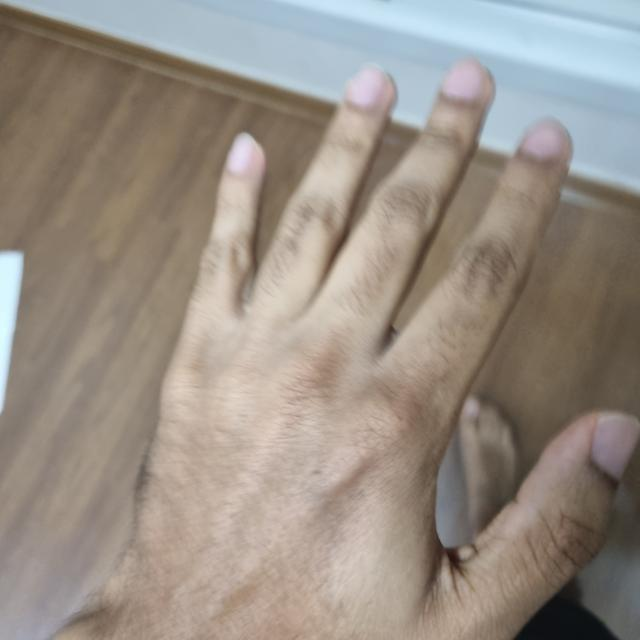Paper: (113, 64, 635, 639)
